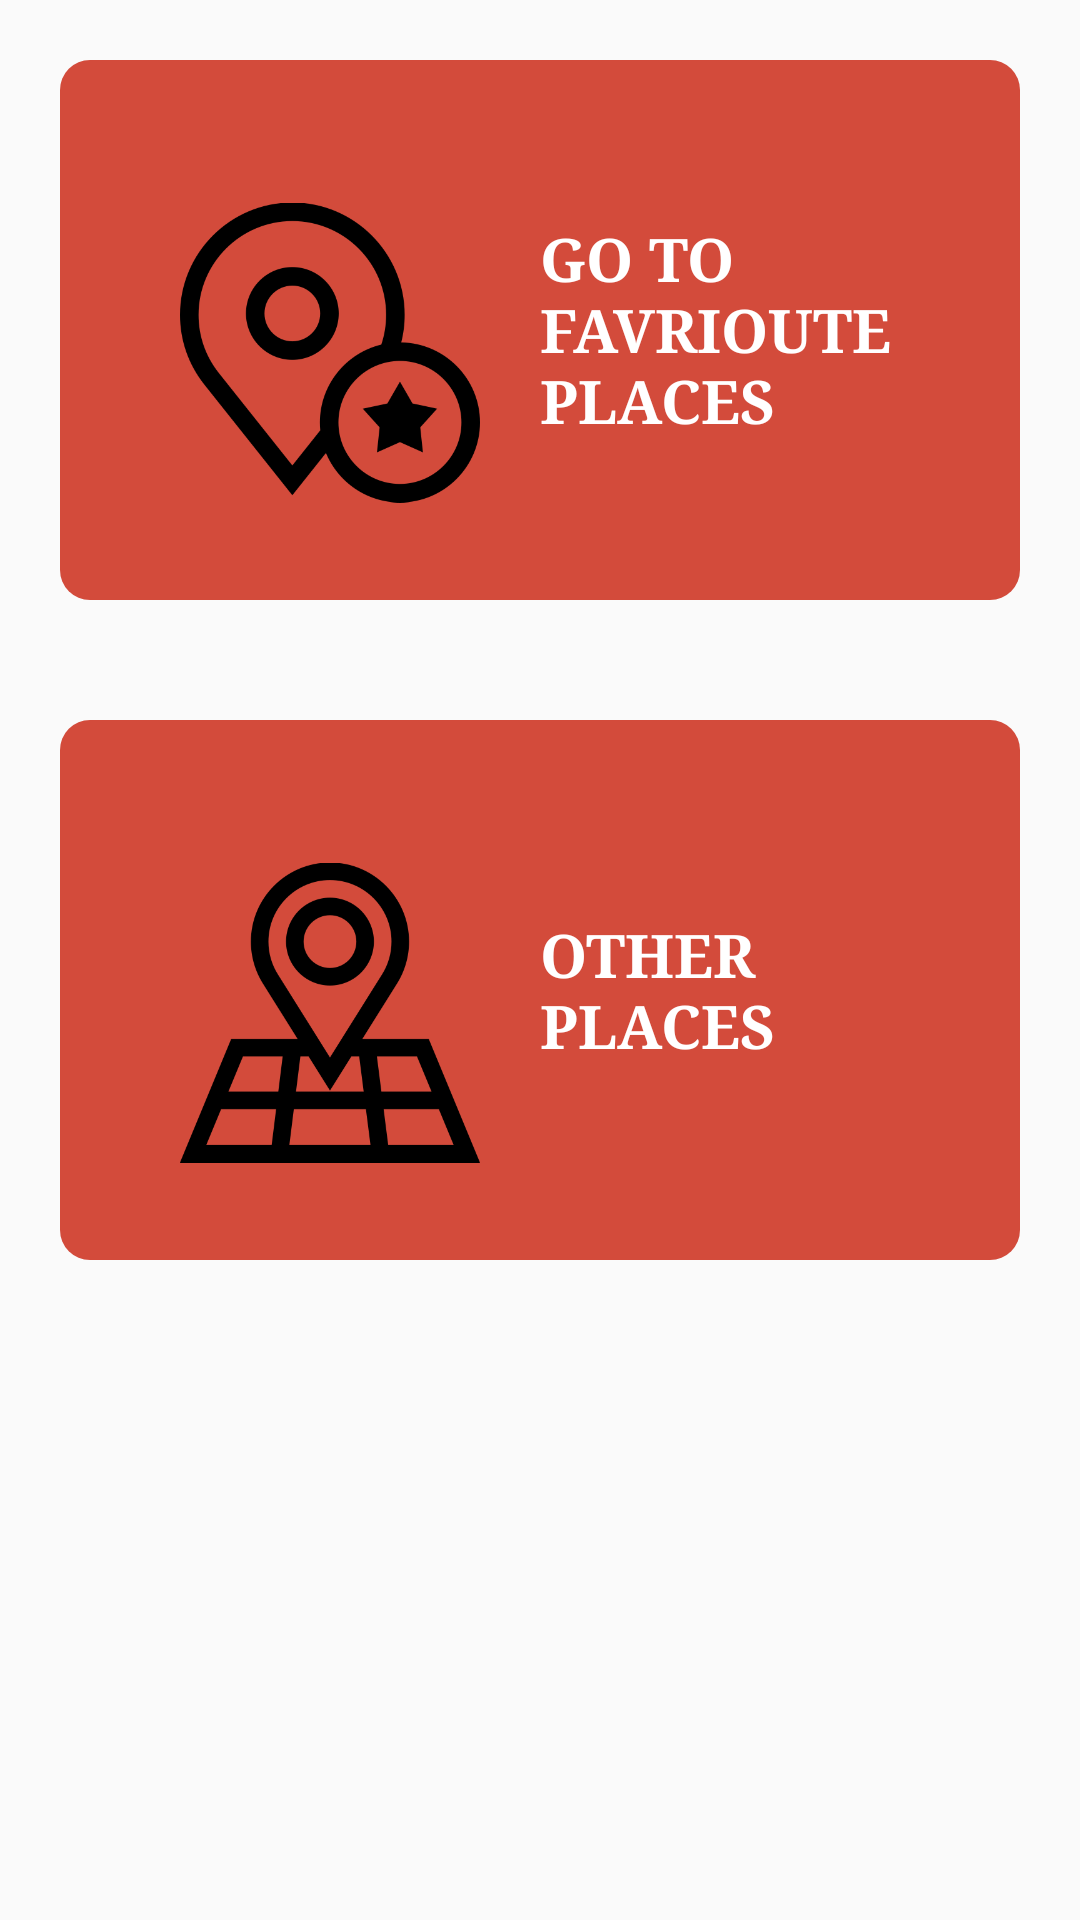

Where to tap for icons on this 1080px×1920px app screen, as [x,y]:
map: [330,1013]
